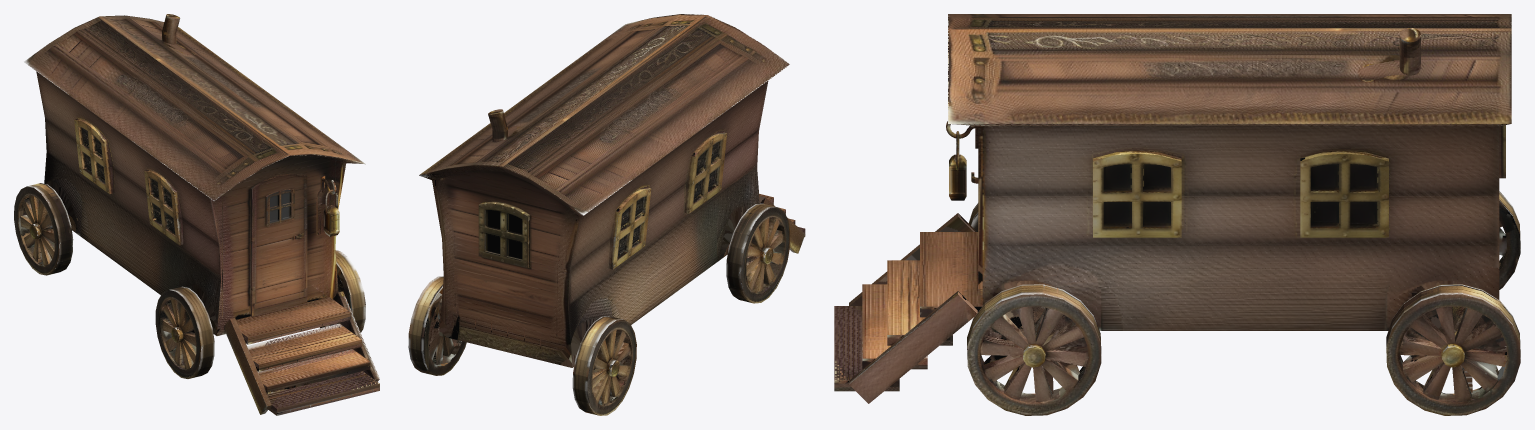
The model's file is textured_ours.glb.
The picture shows the model from 3 angles, left to right: view 1: azimuth 30°, elevation 25°; view 2: azimuth 150°, elevation 25°; view 3: azimuth 270°, elevation 25°; orthographic projection. The views are drawn at different scales.
Visible parts, largest first — view 1: Node; view 2: Node; view 3: Node.
Boxes of the visible parts, <box> form: Node: <box>14,14,379,415</box>; Node: <box>408,14,805,415</box>; Node: <box>834,14,1520,415</box>.
Bounding box in the file's own units: 0.853 × 1.16 × 2.
Materials: 1 (1 with a texture image).
